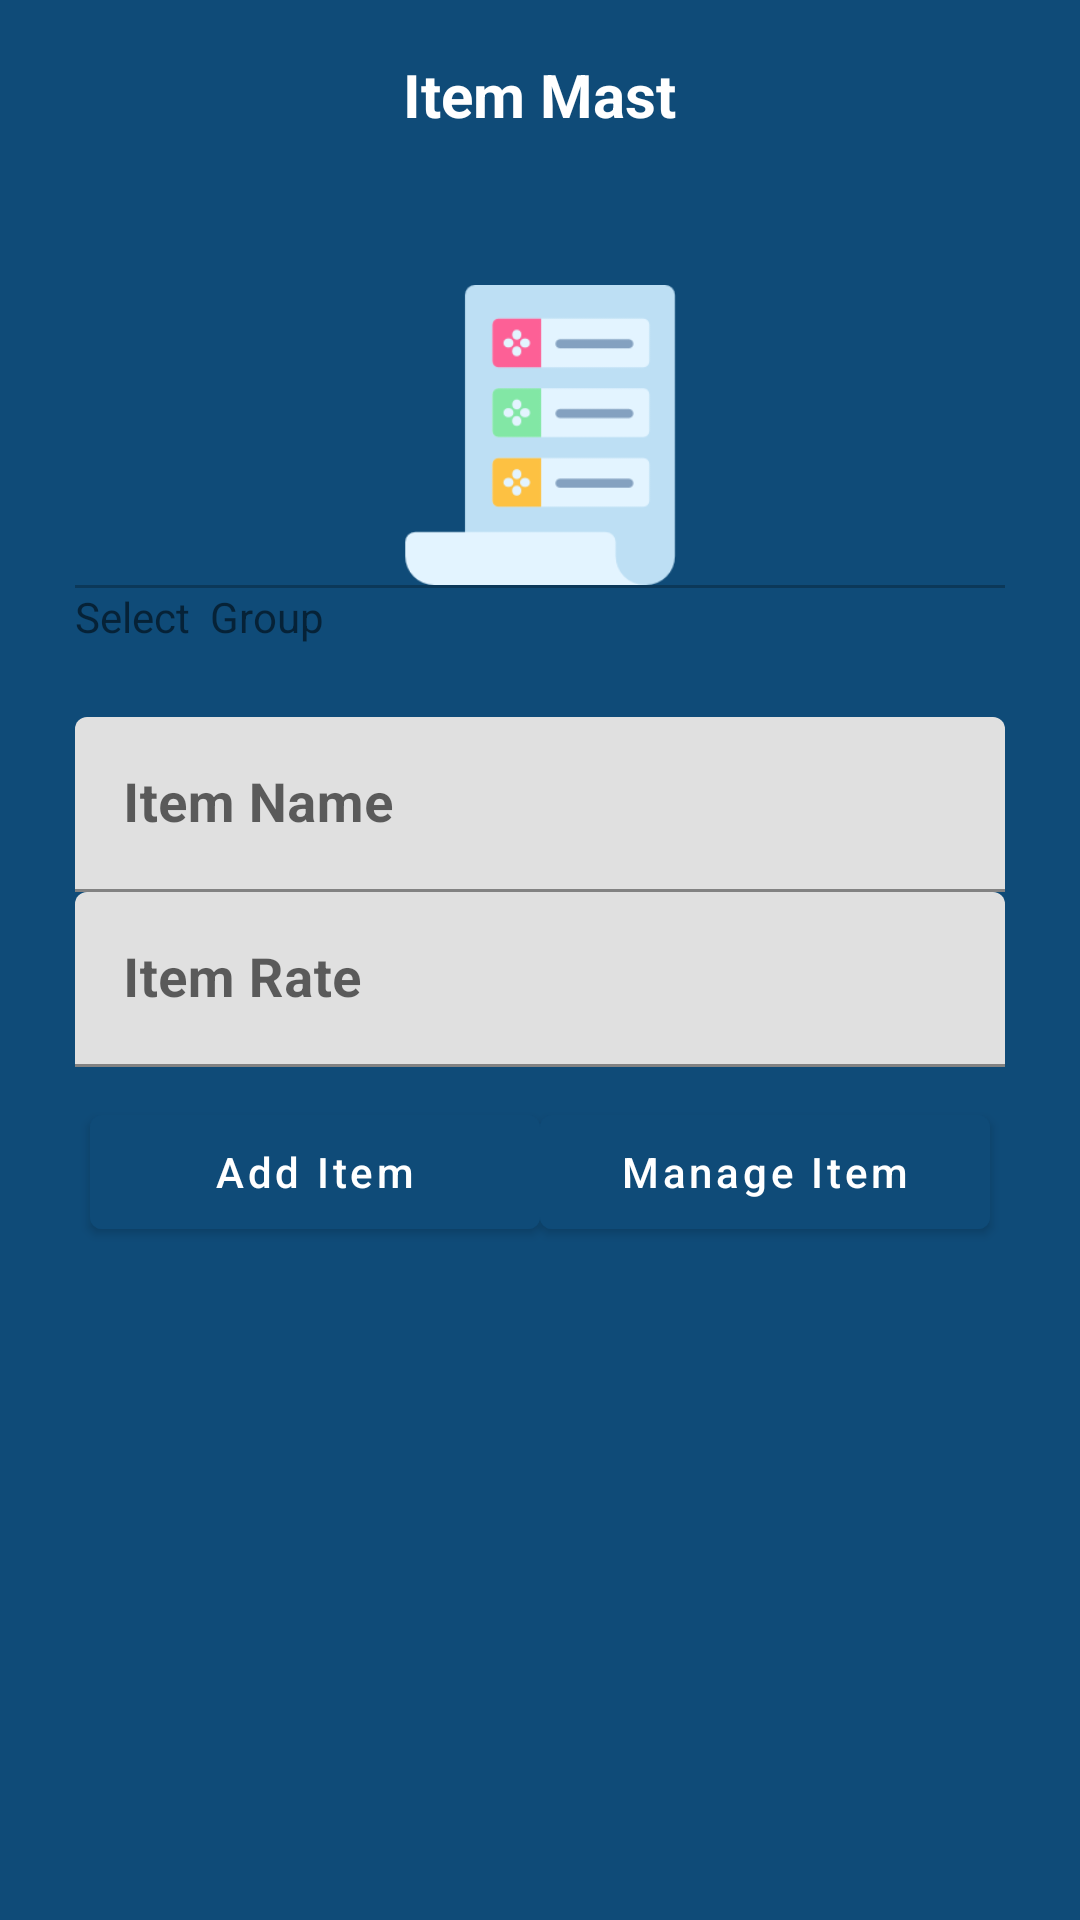

Named icons in this screenshot (1080×1920) and their bounding boxes, (x1, y1, x2, y2):
list: (405, 285, 676, 585)
